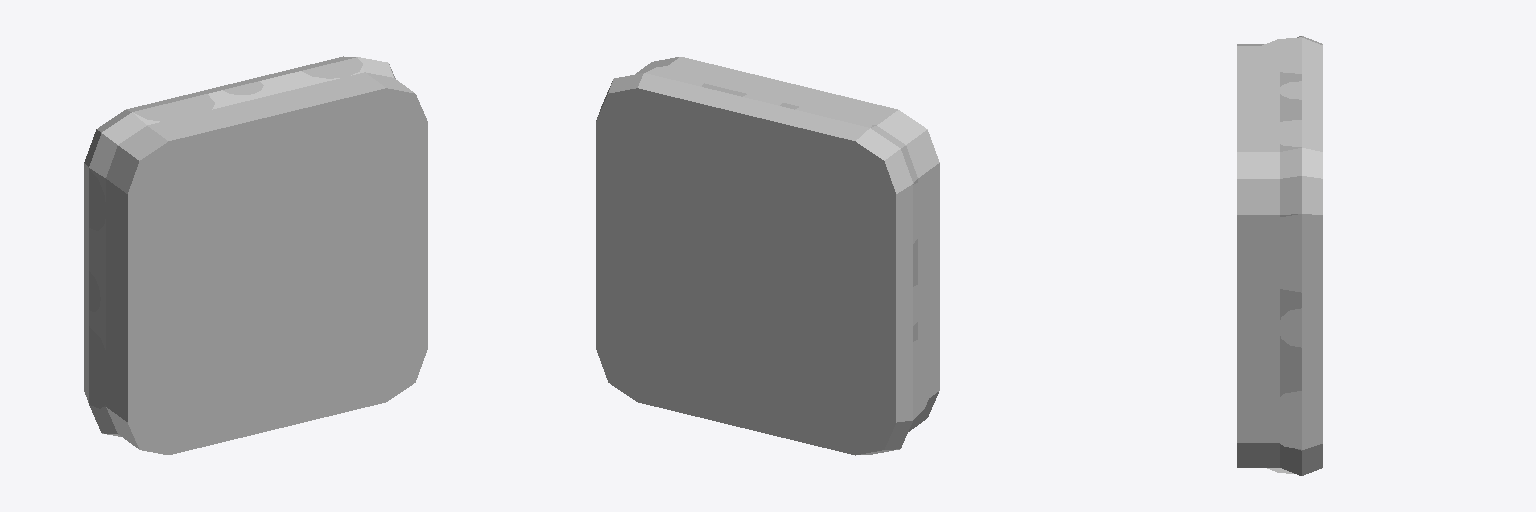
File: block-snow-overhang-low-large.obj
3 views of the same model, side by side, from view 1: azimuth 30°, elevation 25°; view 2: azimuth 150°, elevation 25°; view 3: azimuth 270°, elevation 25° (orthographic).
Parts seen in each view (by area): view 1: block-snow-overhang-low-large; view 2: block-snow-overhang-low-large; view 3: block-snow-overhang-low-large.
Part boxes in pixels (bbox=[...]): block-snow-overhang-low-large: bbox=[84, 56, 427, 454]; block-snow-overhang-low-large: bbox=[596, 57, 939, 455]; block-snow-overhang-low-large: bbox=[1237, 36, 1322, 475].
Size of the model in its own units: 2.08 by 2.08 by 0.5.